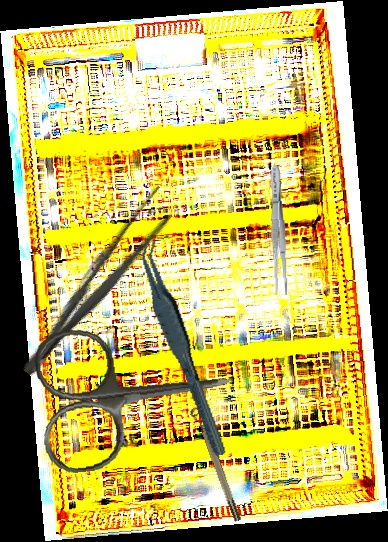Dressing Forceps: (12, 181, 184, 386), (266, 164, 291, 296)
Fixation Ring: (188, 404, 244, 525)
Iris Scissors: (31, 311, 239, 477)
Tissue Forceps: (135, 231, 229, 463)
